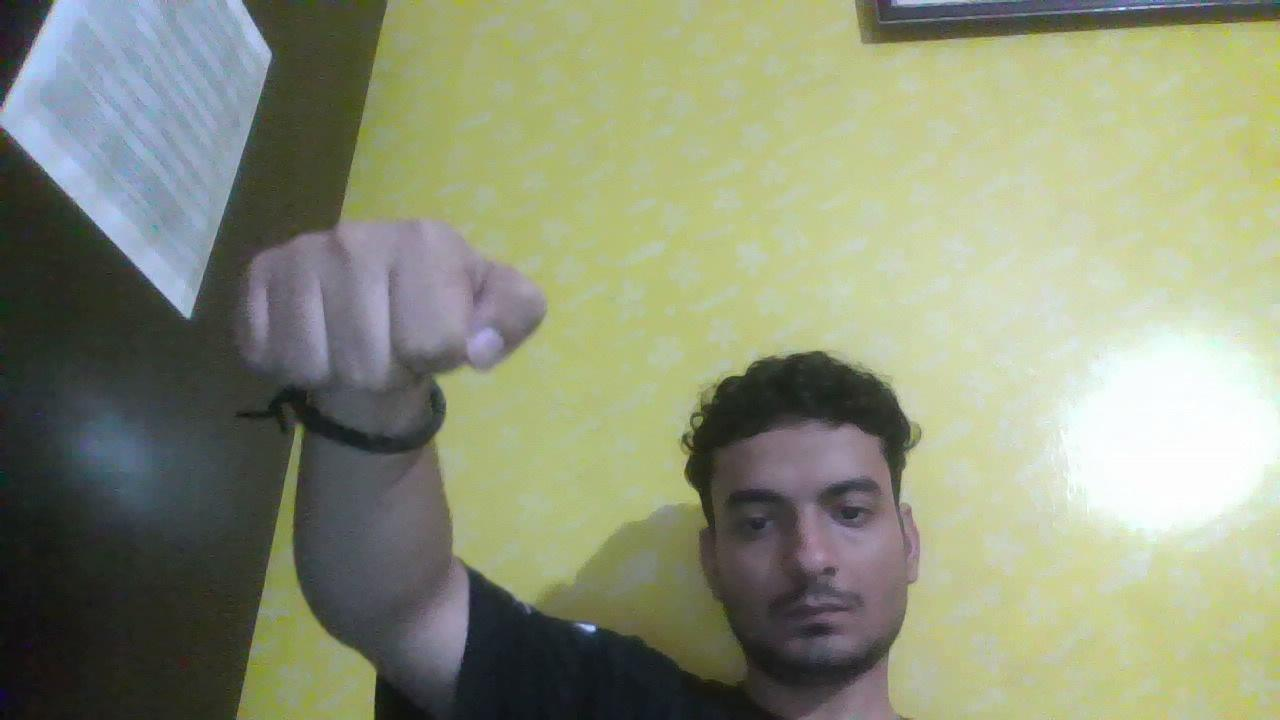Yes: (180, 197, 569, 435)
